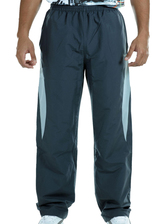clothoes: (33, 3, 134, 219)
